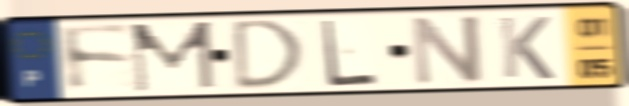D: (231, 16, 307, 93)
F: (56, 23, 138, 97)
K: (496, 14, 558, 82)
L: (318, 17, 380, 89)
M: (127, 18, 220, 96)
N: (408, 12, 486, 89)
